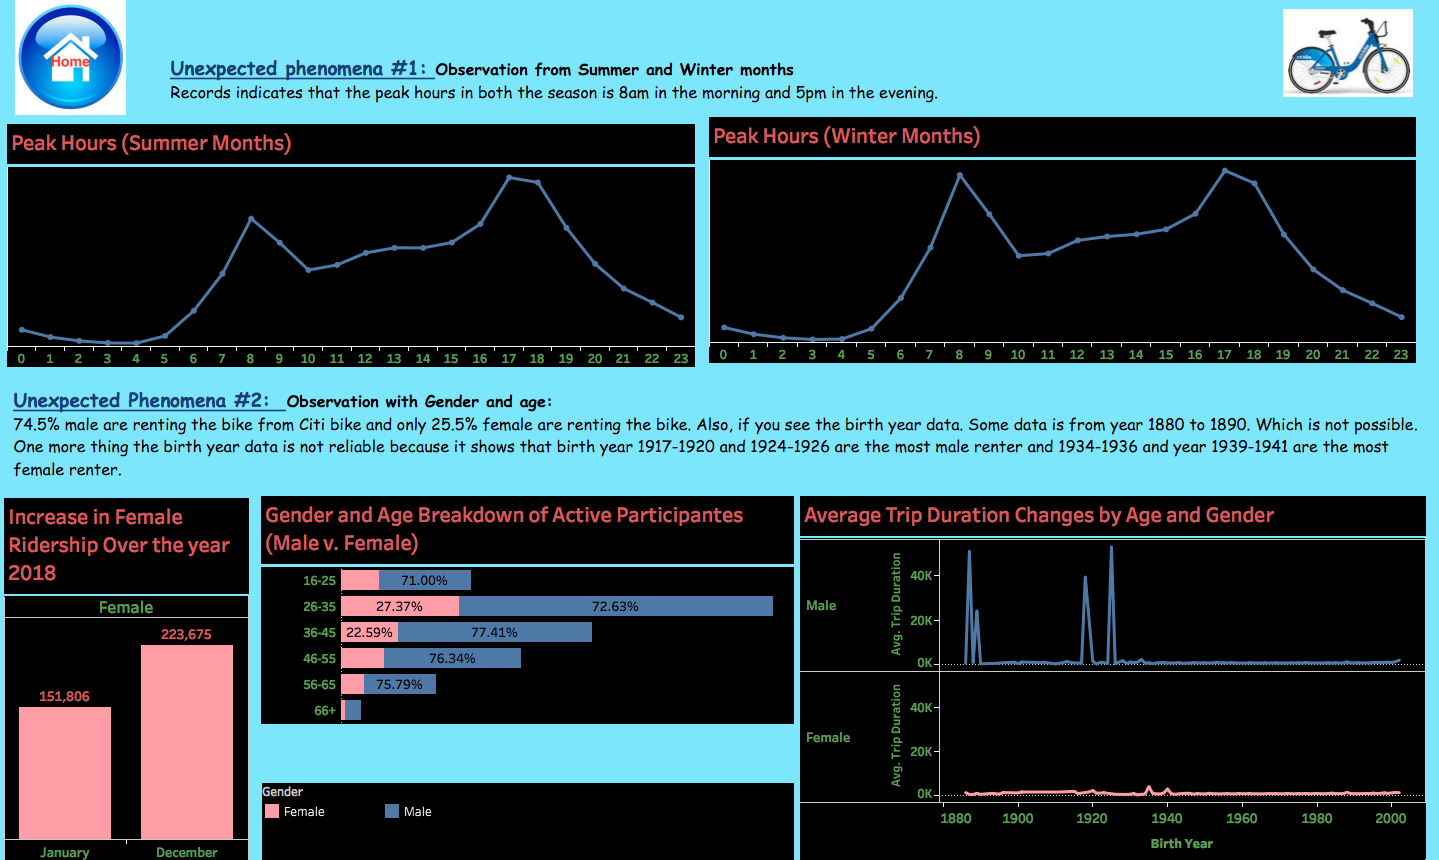

This screenshot's page, from the dashboard's own definition file:
{"tool":"tableau","page":{"name":"Unexpected Phenomena","canvas":[1000,1000],"units":"permille","ordinal":4},"visuals":[{"type":"text","box":[6.5,9.9,987,980.2]},{"type":"text","box":[117.5,10.3,879.7,163]},{"type":"image","param":"/Users/minaljajoo/Documents/My Tableau Repository/Shapes/custom/actual_bike.jpeg","box":[891.9,12,90.2,104.6]},{"type":"worksheet","title":"Winter Months 2018","mark":"Automatic","rows":["Number of Records"],"cols":["starttime"],"box":[493.1,136,490.7,282.2]},{"type":"worksheet","title":"Summer Months 2018","mark":"Line","rows":["Number of Records"],"cols":["starttime"],"box":[5.7,143.3,477.7,279.3]},{"type":"worksheet","title":"Gender Breakdown","mark":"Bar","cols":["Number of Records"],"box":[181.7,571.6,370.6,344.4]},{"type":"worksheet","title":"Avg trip by age  and gender","mark":"Automatic","rows":["gender","tripduration"],"cols":["birth year"],"box":[556.4,571.6,434.7,418.2]},{"type":"worksheet","title":"Female Ridership","mark":"Bar","rows":["Number of Records"],"cols":["gender","starttime"],"box":[3.2,573.1,170.3,418.2]},{"type":"legend","title":"Gender Breakdown","param":"[federated.14ladbp1xfaqif180skau13ugwz1].[none:gender:ok]","box":[182.5,901.6,369.8,91.2]}]}

Visuals, with their boxes on the dashboard's canvas, which has no fixed pixel size, in thousandths of its width and height (x1, y1, x2, y2). These are canvas units, not pixel positions in the 1439x860 screenshot, which may show the page scaled, cropped or inside an application window:
text: bbox=[6, 10, 994, 990]
text: bbox=[118, 10, 997, 173]
image: bbox=[892, 12, 982, 117]
"Winter Months 2018" worksheet: bbox=[493, 136, 984, 418]
"Summer Months 2018" worksheet (Line marks): bbox=[6, 143, 483, 423]
"Gender Breakdown" worksheet (Bar marks): bbox=[182, 572, 552, 916]
"Avg trip by age  and gender" worksheet: bbox=[556, 572, 991, 990]
"Female Ridership" worksheet (Bar marks): bbox=[3, 573, 174, 991]
"Gender Breakdown" legend: bbox=[182, 902, 552, 993]
